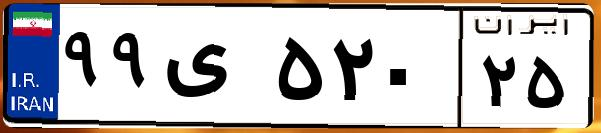0: (385, 28, 445, 110)
2: (330, 28, 385, 110), (475, 38, 525, 113)
5: (270, 28, 330, 110), (525, 38, 570, 115)
9: (57, 26, 110, 100), (110, 28, 158, 98)
ی: (158, 20, 270, 120)
